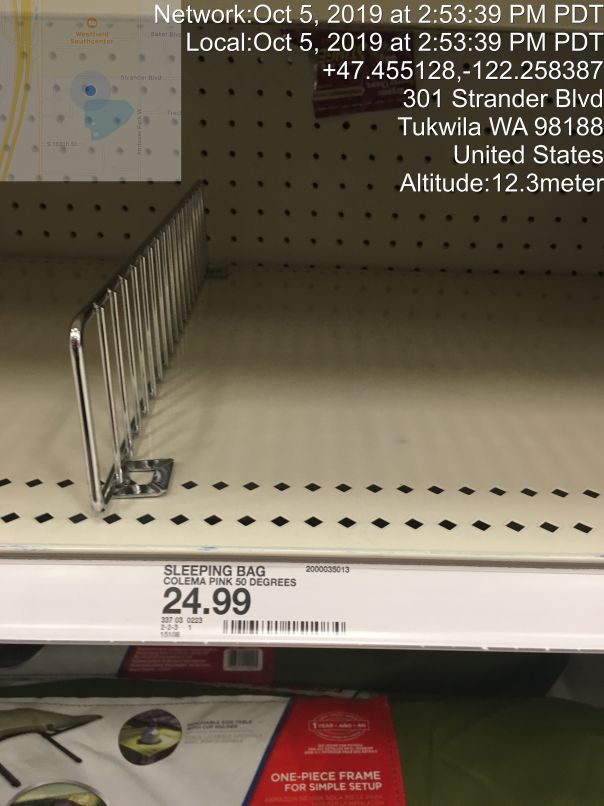Label: (158, 554, 365, 648)
Location: (390, 86, 604, 172)
Time: (149, 3, 604, 56)
Void: (190, 104, 559, 527)
